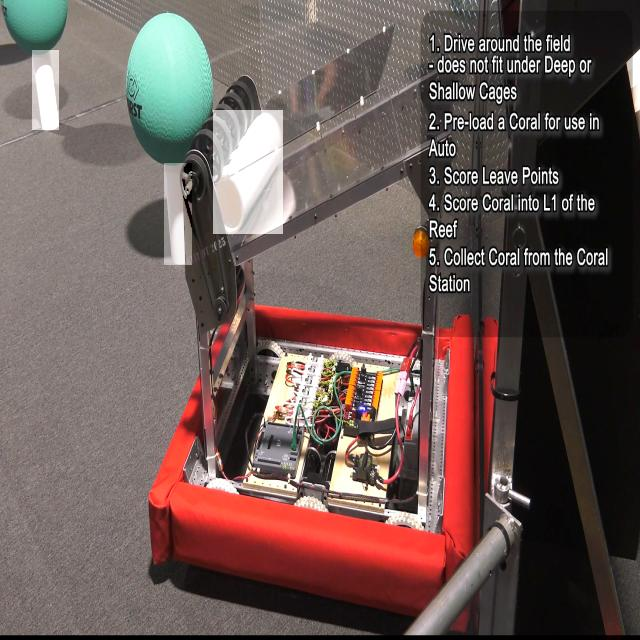Coral: (213, 110, 283, 234), (164, 163, 192, 265), (32, 50, 59, 130)
